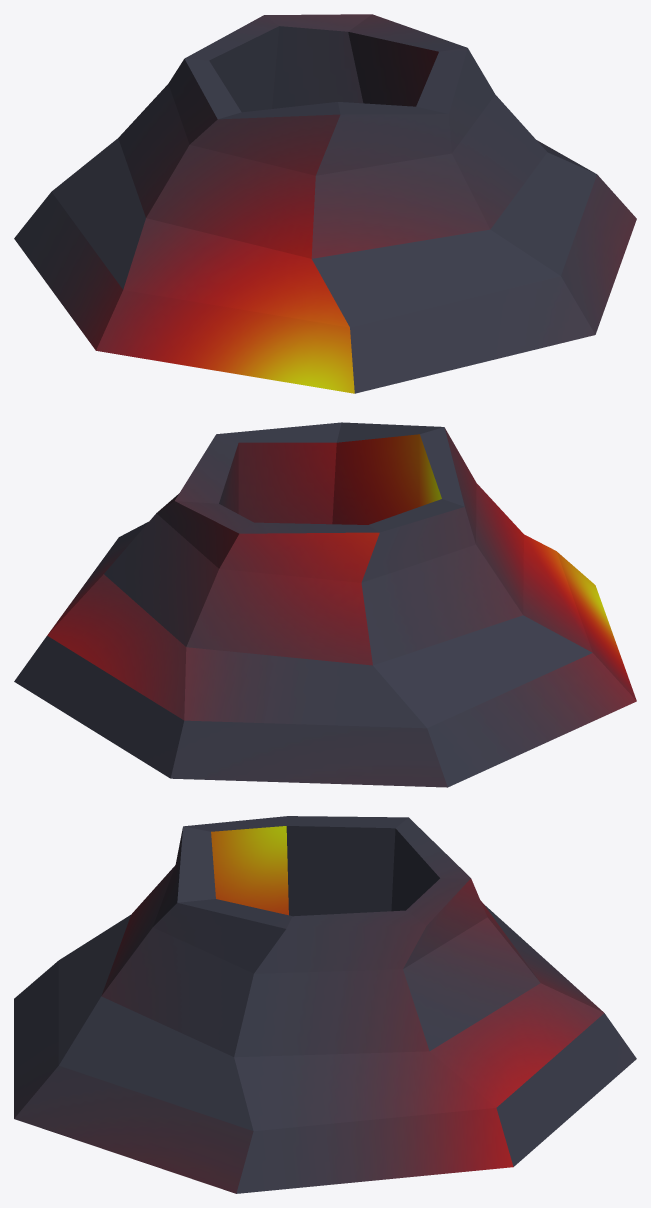
Rendered from geysir.glb.
3 views of the same model, one above another, from view 1: azimuth 30°, elevation 25°; view 2: azimuth 150°, elevation 25°; view 3: azimuth 270°, elevation 25° (orthographic). The views are drawn at different scales.
Visible parts, largest first — view 1: Circle; view 2: Circle; view 3: Circle.
Part boxes in pixels (<box>): Circle: <box>14,14,636,393</box>; Circle: <box>14,422,636,787</box>; Circle: <box>14,816,636,1193</box>.
Size of the model in its own units: 1.95 by 0.6958 by 1.9.
Materials: 1 (1 with a texture image).
